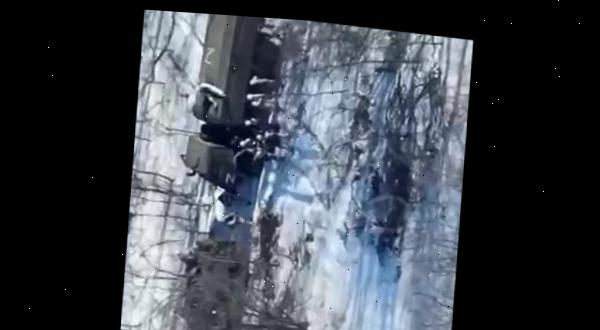armored_car: (170, 234, 248, 330)
person: (243, 145, 292, 167), (255, 130, 294, 152), (219, 210, 254, 231), (244, 91, 280, 111), (243, 116, 279, 134), (245, 74, 278, 92), (235, 135, 258, 153)
truck: (176, 12, 283, 201)
